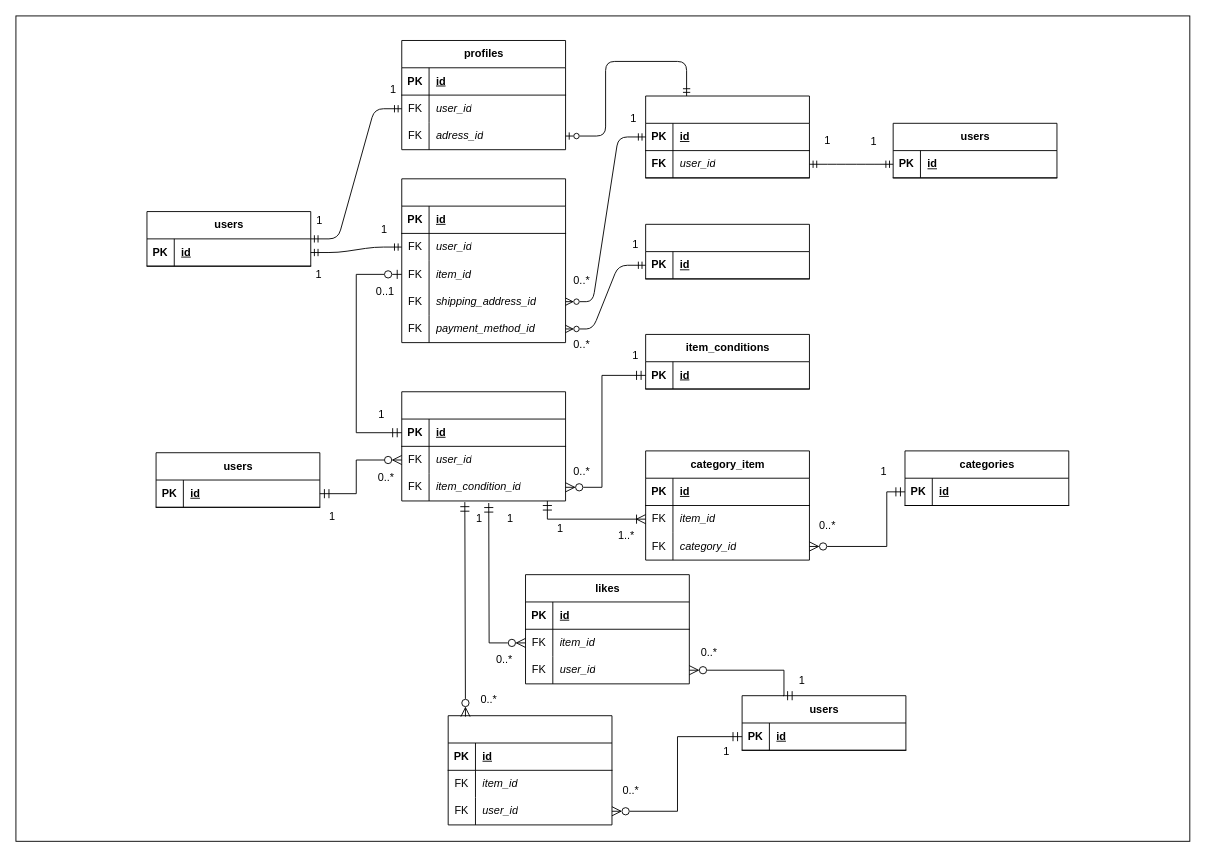
This 1206x857 diagram has some shape labels left out. Here are the shapes that lost their labels. From the top down, the box of each, then its label:
(645, 95, 809, 178): addresses
(401, 178, 566, 343): purchases
(645, 223, 809, 279): payment_methods
(401, 391, 566, 501): items
(447, 715, 612, 825): comments
